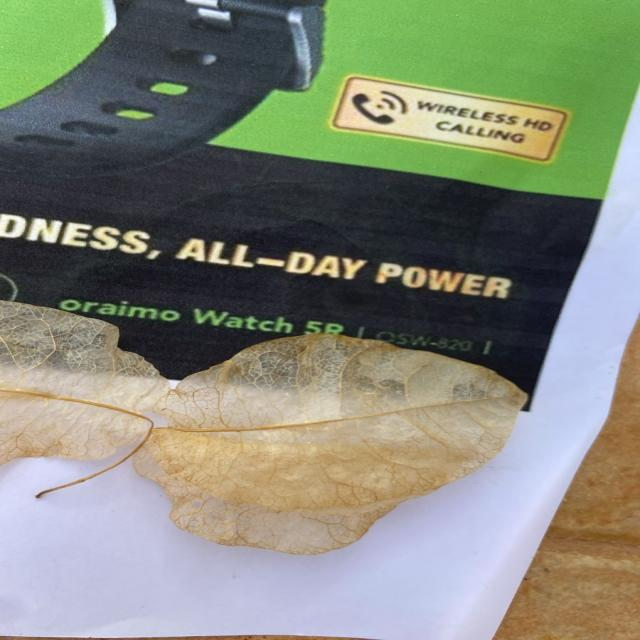Oraimo Watch 5R OSW-820: (63, 291, 506, 358)
